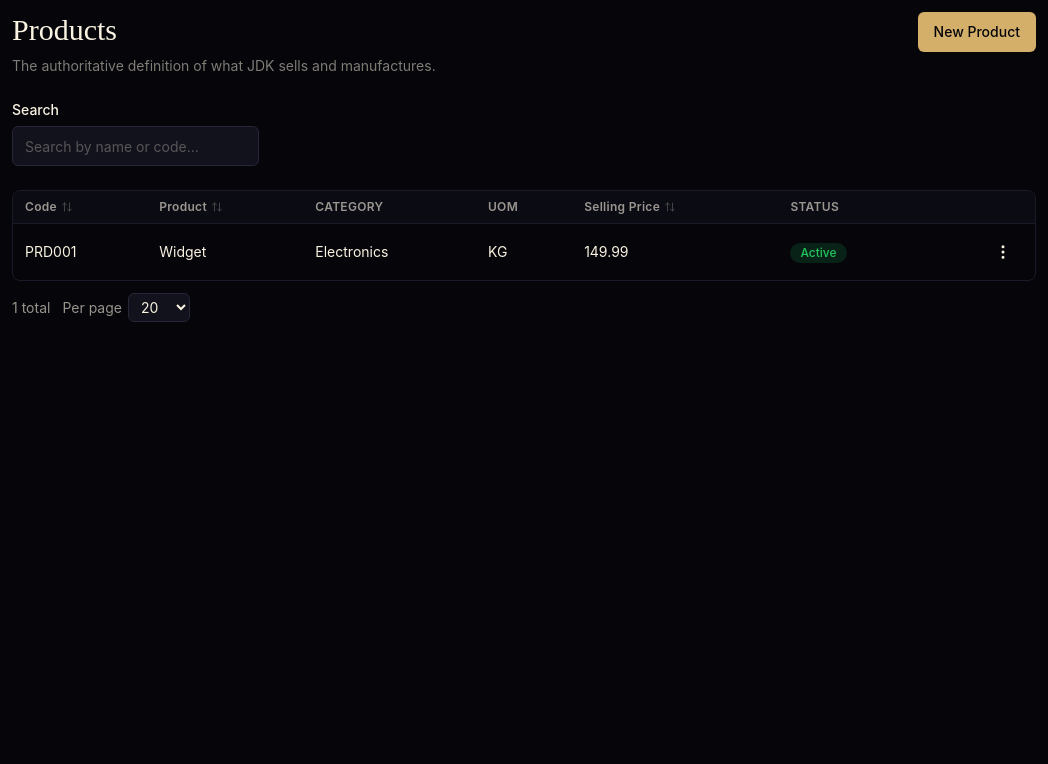
Scenario: ProductsPage › creating a product shows a server-side name conflict as a form error
Expected: the text "Widget" is shown, [147,224,303,280]
Click the button "New Product": (977, 32) [918,12,1036,52]
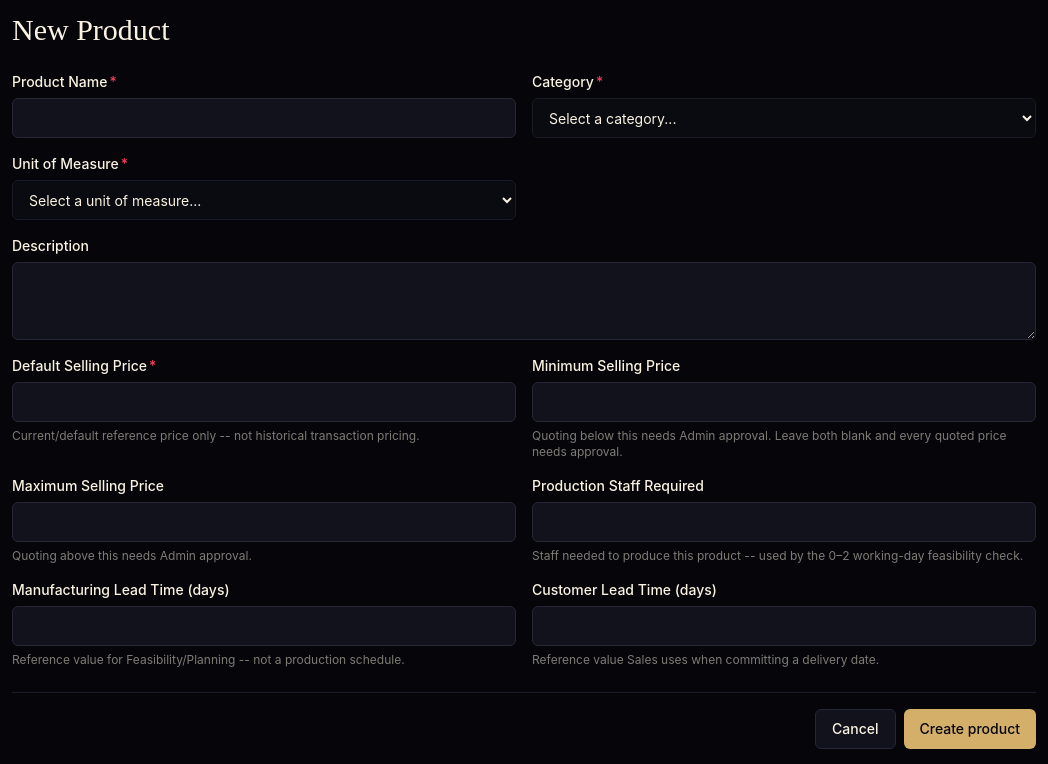
In the field labelled "Product Name": (264, 118) [12,98,516,138], type "Duplicate"
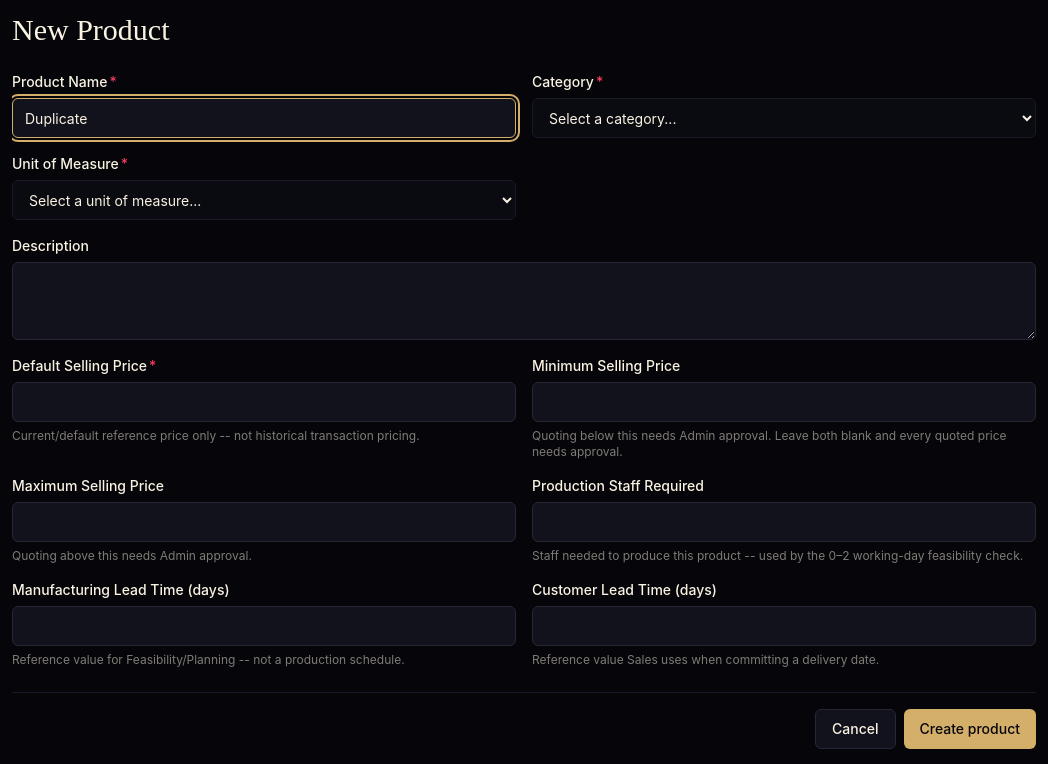
Select "Electronics" in the dropdown labelled "Category": (784, 118) [532,98,1036,138]
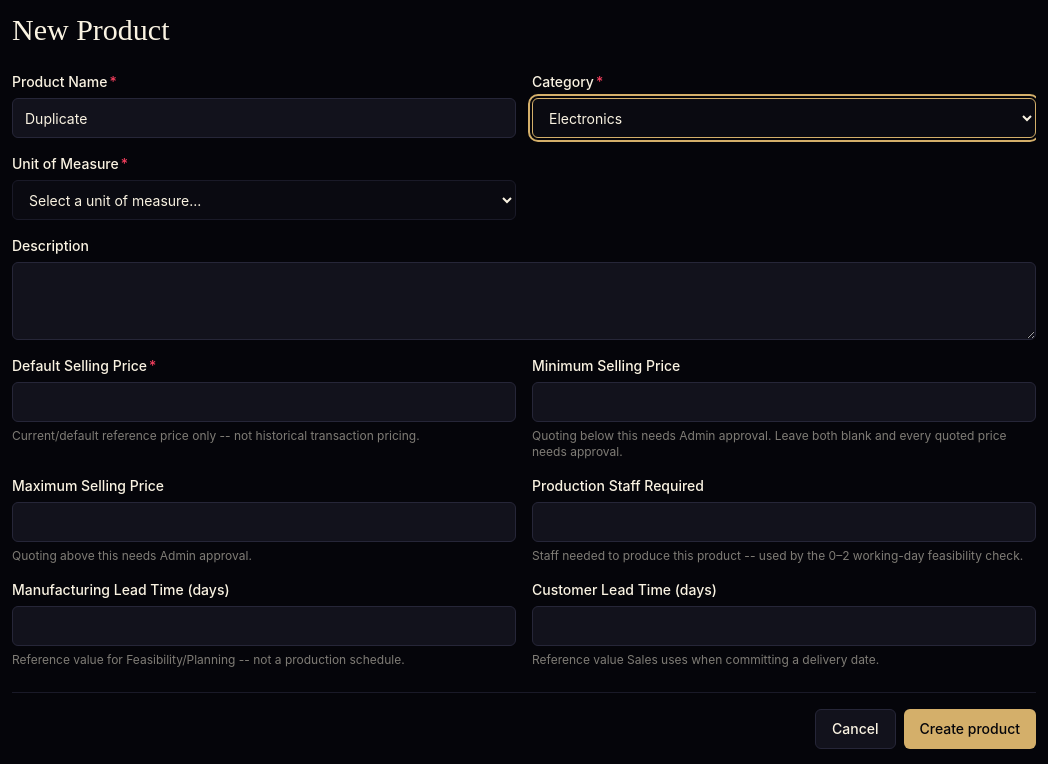
Select "Kilogram (KG)" in the dropdown labelled "Unit of Measure": (264, 200) [12,180,516,220]
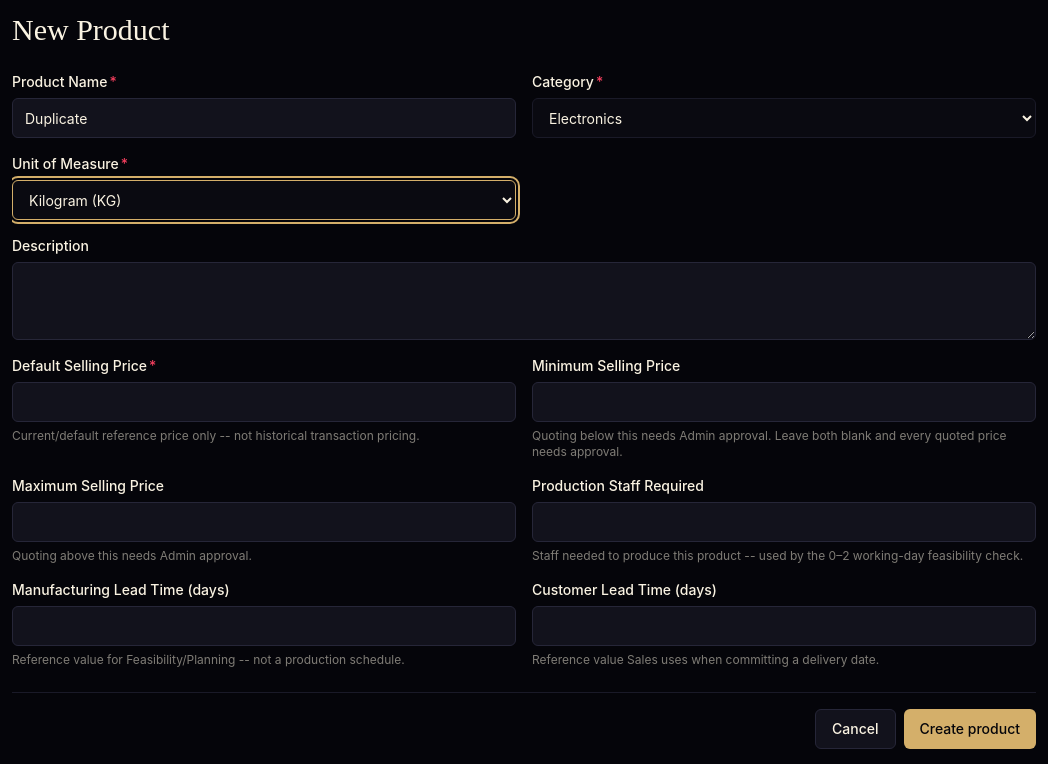
In the field labelled "Default Selling Price": (264, 402) [12,382,516,422], type "10.00"
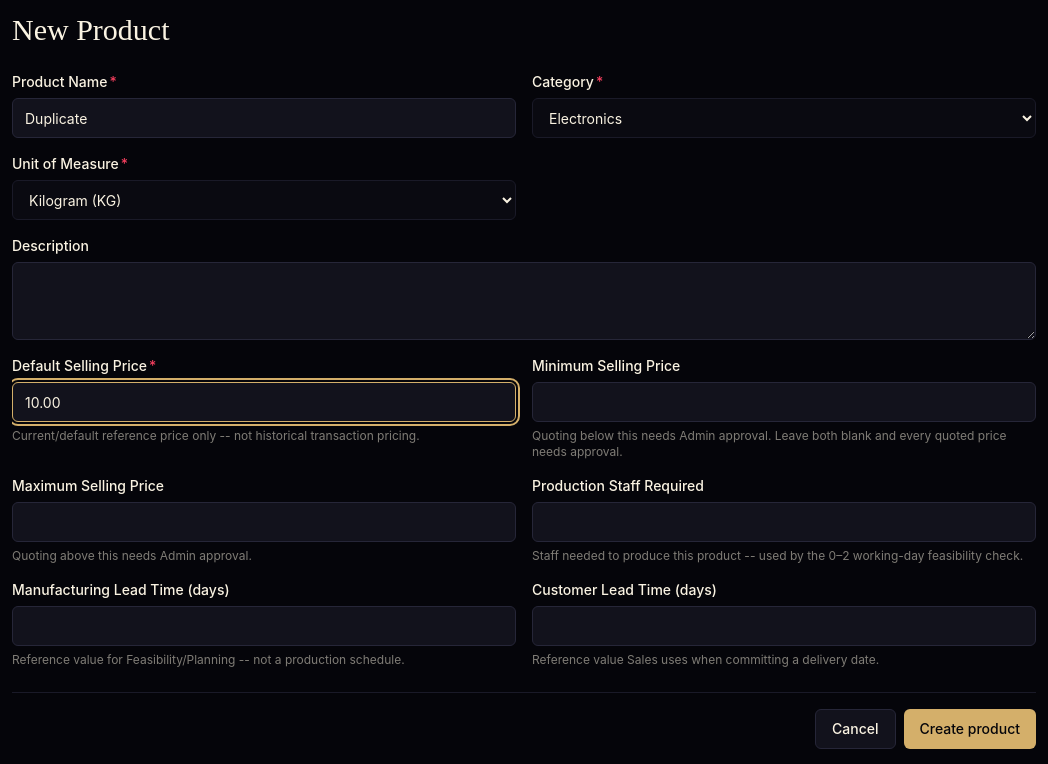
Click the button "Create product": (970, 729) [904,709,1036,749]
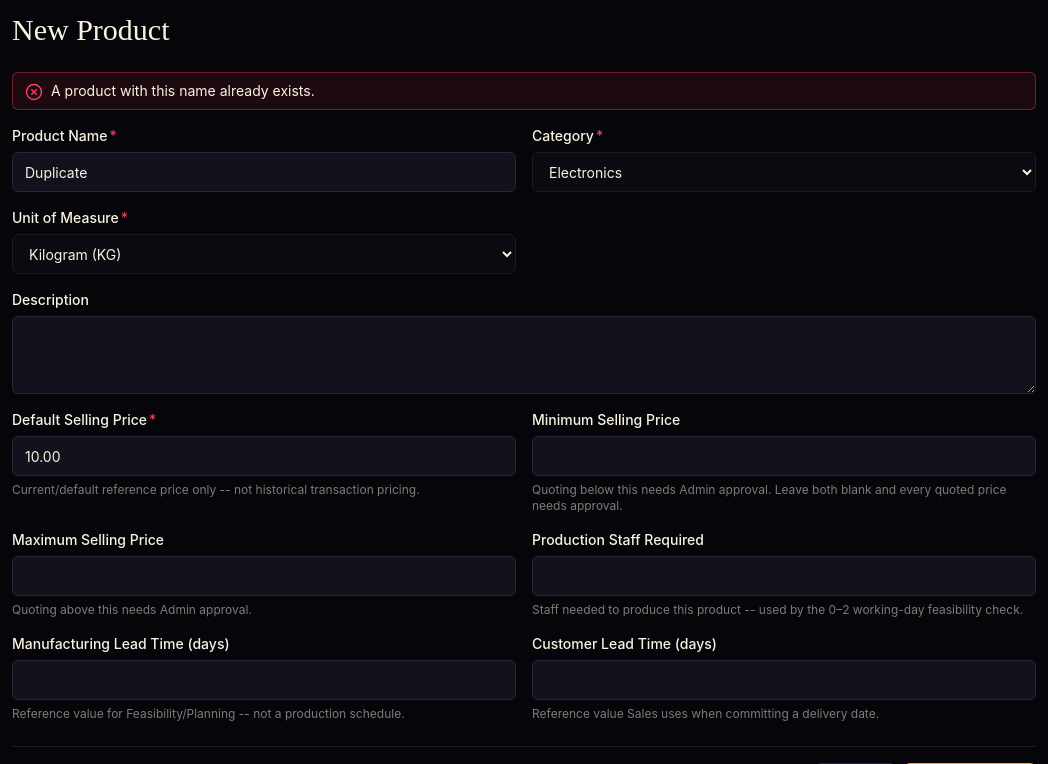
Result: the text "A product with this name already exists." is shown at [51,81,315,101]
